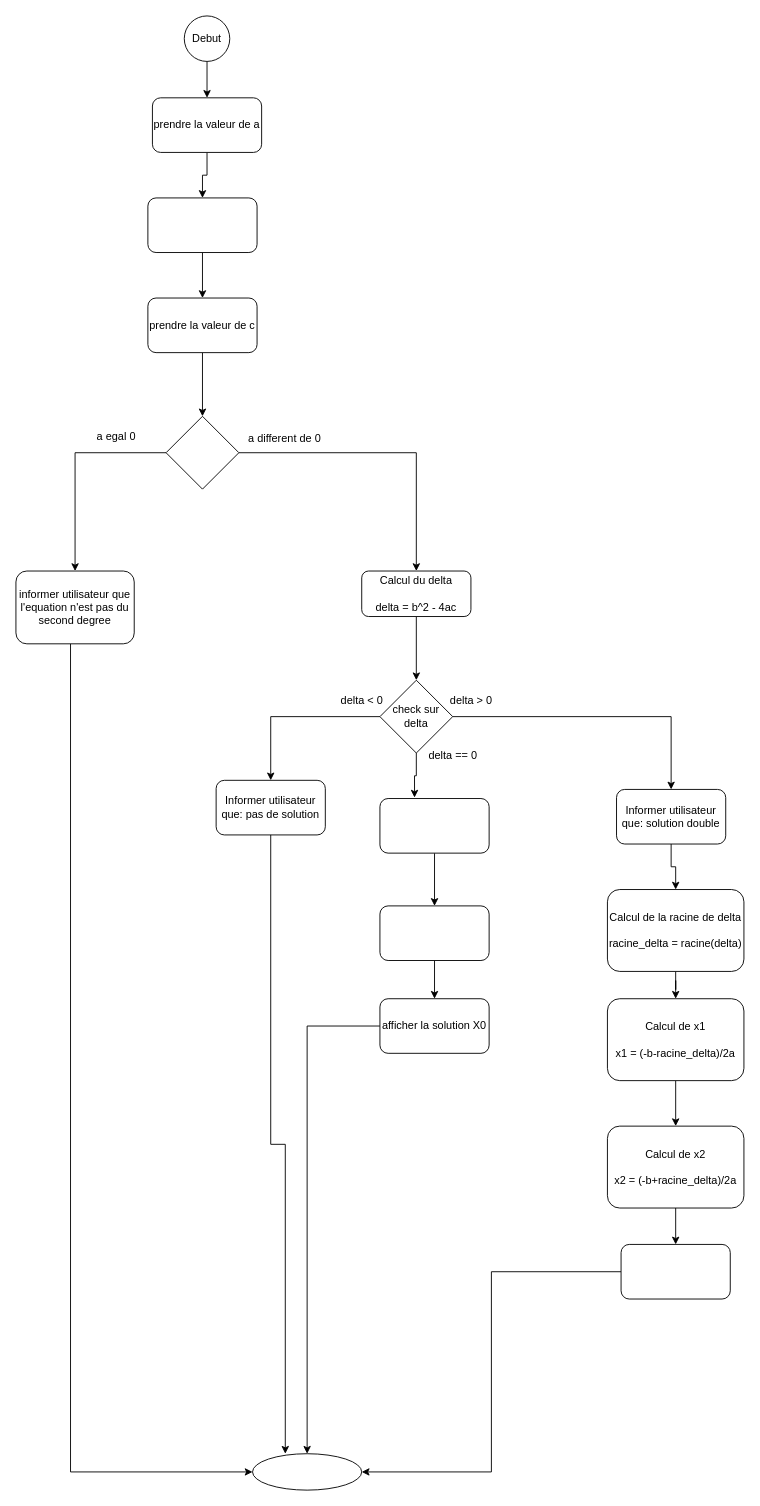
This 760x1506 diagram has some shape labels left out. Each missing label, with the centre of its shape:
"afficher la solution X1 et X2" belongs at pixel 675 1271.
"Calcul de la solution unique x0 = -b/2a" belongs at pixel 434 933.
"checker la valeur de a" belongs at pixel 202 452.
"Fin" belongs at pixel 307 1471.
"Informer utilisateur que: une solution unique" belongs at pixel 434 825.
"prendre la valeur de b" belongs at pixel 202 225.
